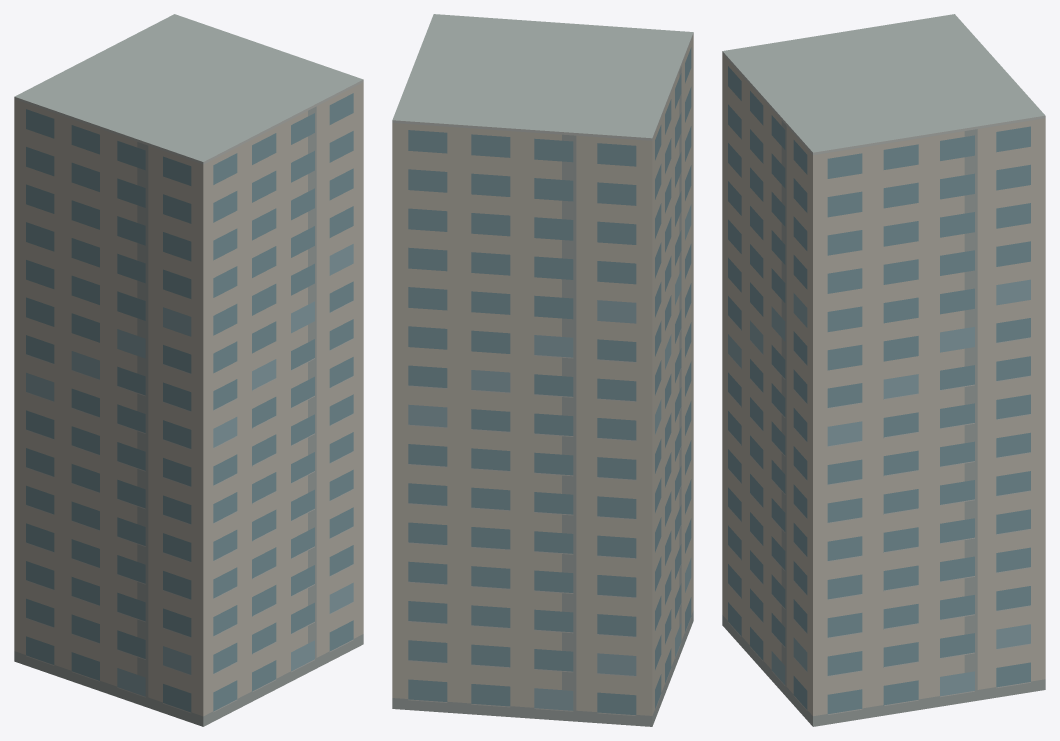
Rendered from residential-44db5b50-3756-4b54-a977-c4278c90a072.glb.
The picture shows the model from 3 angles, left to right: view 1: azimuth 30°, elevation 25°; view 2: azimuth 150°, elevation 25°; view 3: azimuth 270°, elevation 25°; orthographic projection. The views are drawn at different scales.
Parts seen in each view (by area): view 1: residential-44db5b50-3756-4b54-a977-c4278c90a072.tmp; view 2: residential-44db5b50-3756-4b54-a977-c4278c90a072.tmp; view 3: residential-44db5b50-3756-4b54-a977-c4278c90a072.tmp.
Boxes of the visible parts, left/top/right/bottom form: residential-44db5b50-3756-4b54-a977-c4278c90a072.tmp: left=14, top=14, right=363, bottom=726; residential-44db5b50-3756-4b54-a977-c4278c90a072.tmp: left=392, top=14, right=693, bottom=726; residential-44db5b50-3756-4b54-a977-c4278c90a072.tmp: left=722, top=14, right=1045, bottom=726.
Bounding box in the file's own units: 27.98 × 54 × 27.55.
